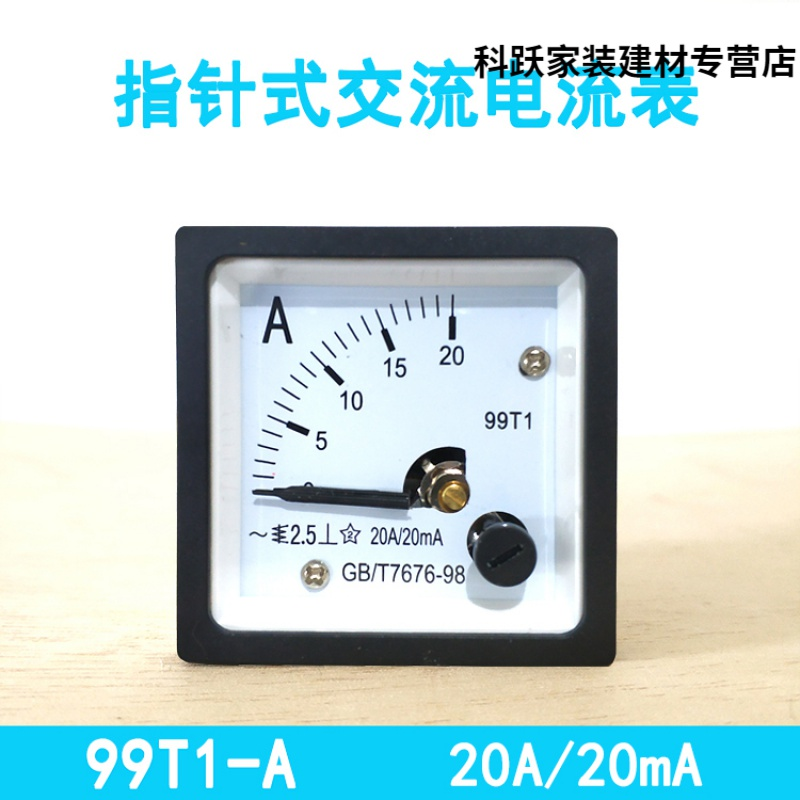pointer: (205, 253, 583, 636)
